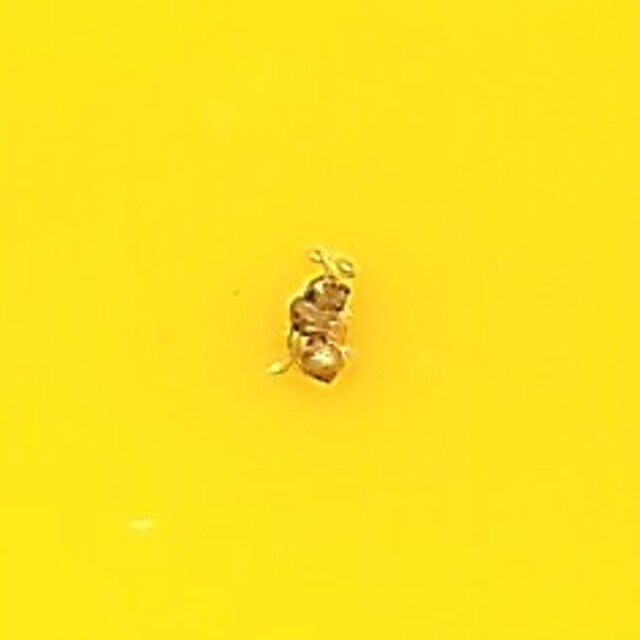Hymenoptera: (271, 253, 369, 387)
